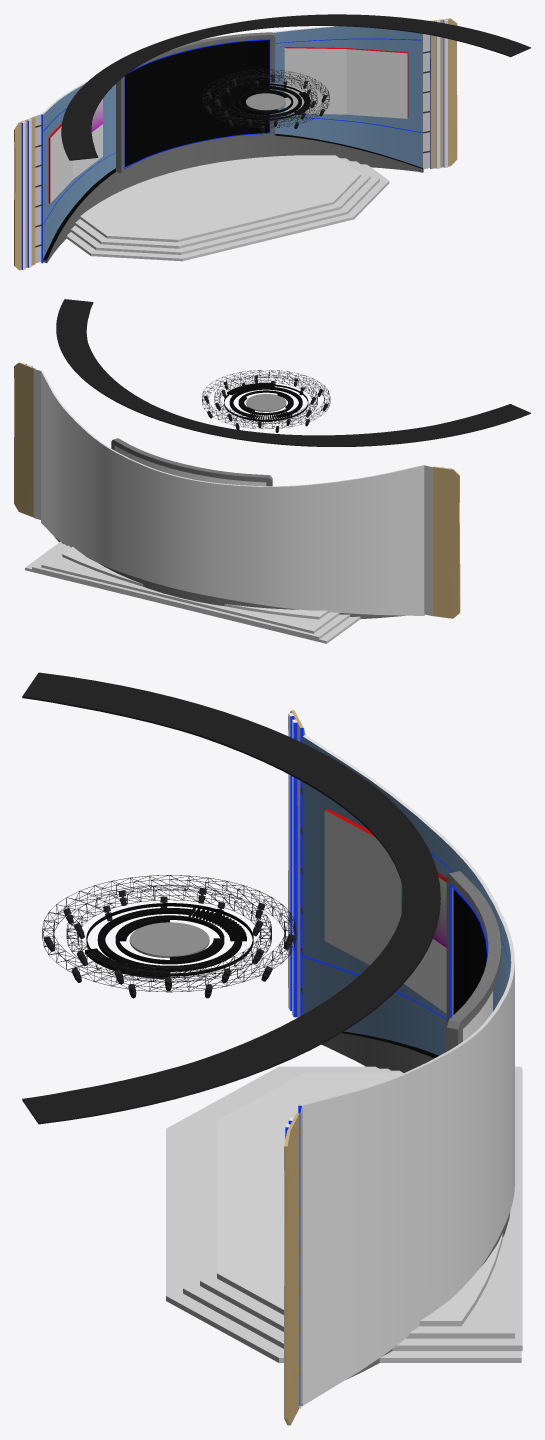
File: Curved Stage.fbx
3 renders of one model, top to bottom at view 1: azimuth 30°, elevation 25°; view 2: azimuth 150°, elevation 25°; view 3: azimuth 270°, elevation 25°, orthographic. The views are drawn at different scales.
Visible parts, largest first — view 1: Line006, back projection wall, Box002, st, Arc007, Arc002, Rectangle002, Line012, Line003, Line004, Line005, Line008 (+11 smaller); view 2: back projection wall, Arc007, Line008, Line012, Line005, Line004, Shape1, Box012, Line003, Rectangle002, Line009, Arc002 (+5 smaller); view 3: back projection wall, Arc007, Line006, st, Line004, Line005, Line003, Shape1, Box012, Line012, Box013, Rectangle002 (+7 smaller).
Part boxes in pixels (x1=…): Line006: x1=80, y1=155, x2=360, y2=242; back projection wall: x1=41, y1=26, x2=422, y2=263; Box002: x1=125, y1=40, x2=269, y2=167; st: x1=48, y1=47, x2=408, y2=203; Arc007: x1=61, y1=14, x2=530, y2=160; Arc002: x1=43, y1=134, x2=423, y2=262; Rectangle002: x1=116, y1=32, x2=275, y2=174; Line012: x1=430, y1=18, x2=457, y2=168; Line003: x1=66, y1=164, x2=389, y2=261; Line004: x1=71, y1=161, x2=379, y2=254; Line005: x1=75, y1=158, x2=370, y2=248; Line008: x1=14, y1=116, x2=35, y2=270; back projection wall: x1=41, y1=370, x2=424, y2=615; Arc007: x1=56, y1=299, x2=530, y2=446; Line008: x1=433, y1=466, x2=460, y2=618; Line012: x1=14, y1=362, x2=35, y2=517; Line005: x1=41, y1=545, x2=339, y2=633; Line004: x1=32, y1=544, x2=349, y2=639; Shape1: x1=224, y1=383, x2=308, y2=421; Box012: x1=202, y1=370, x2=330, y2=428; Line003: x1=25, y1=541, x2=360, y2=643; Rectangle002: x1=111, y1=438, x2=272, y2=486; Line009: x1=424, y1=465, x2=432, y2=615; Arc002: x1=54, y1=536, x2=404, y2=618; back projection wall: x1=298, y1=735, x2=514, y2=1406; Arc007: x1=22, y1=672, x2=440, y2=1124; Line006: x1=217, y1=1073, x2=502, y2=1326; st: x1=324, y1=809, x2=446, y2=1013; Line004: x1=183, y1=1068, x2=522, y2=1350; Line005: x1=200, y1=1070, x2=514, y2=1338; Line003: x1=166, y1=1066, x2=521, y2=1362; Shape1: x1=85, y1=903, x2=253, y2=979; Box012: x1=42, y1=875, x2=296, y2=992; Line012: x1=284, y1=1113, x2=299, y2=1425; Box013: x1=66, y1=885, x2=271, y2=981; Rectangle002: x1=446, y1=871, x2=501, y2=1051.
Size of what is drawn, in the model's own units: 1133 by 382 by 532.
